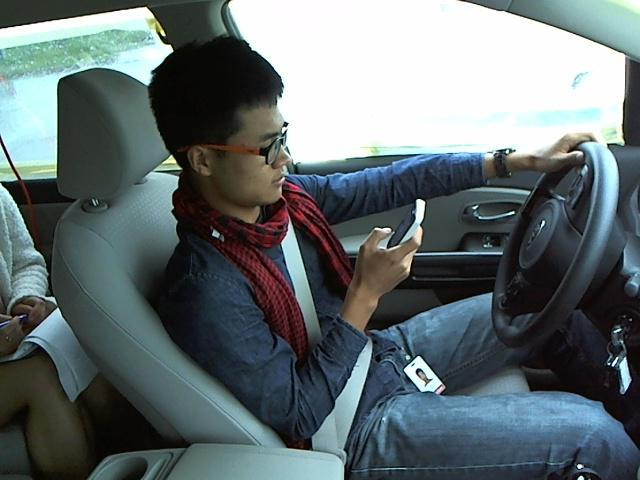PhoneUse: (380, 188, 426, 260)
